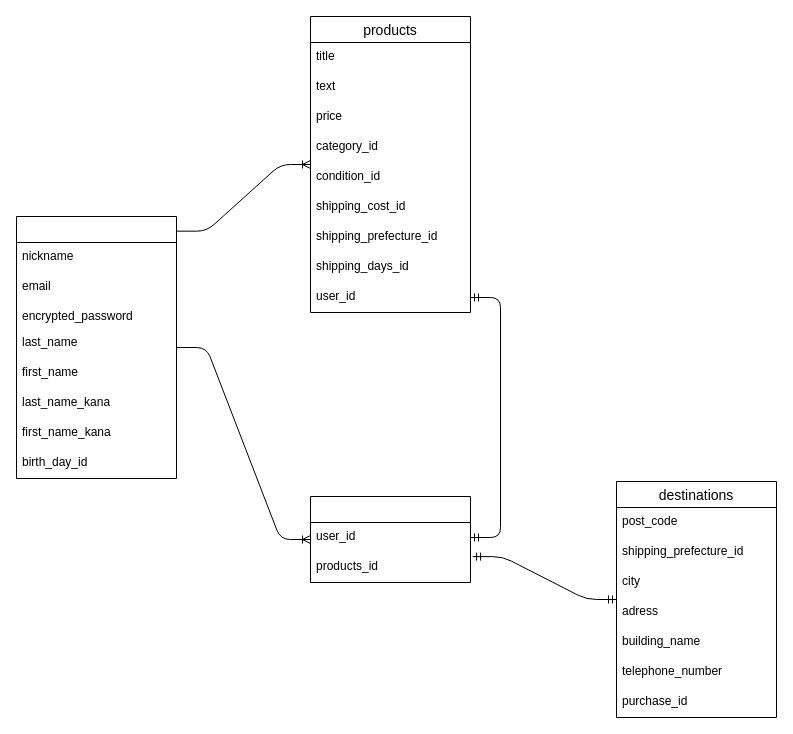
Some shapes in this 793 by 734 pixel diagram are drawn without their labels. Each missing label, with the box of its shape:
purchases: (310, 496, 470, 582)
users: (16, 216, 176, 478)
